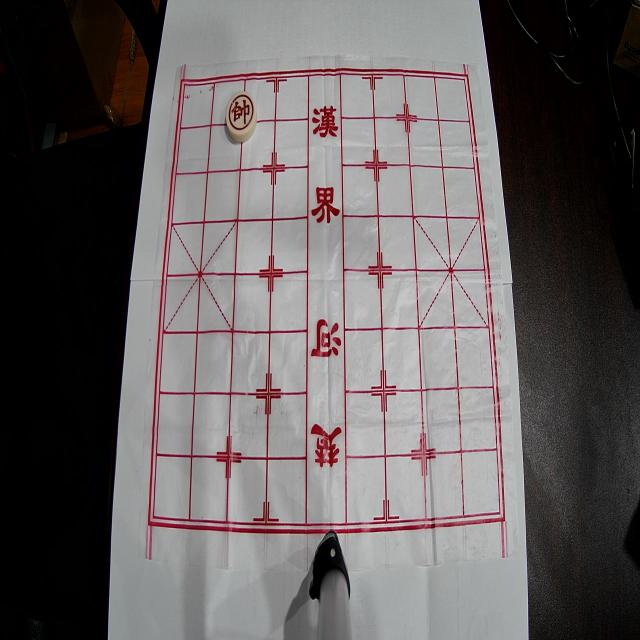red-general: (226, 92, 257, 142)
